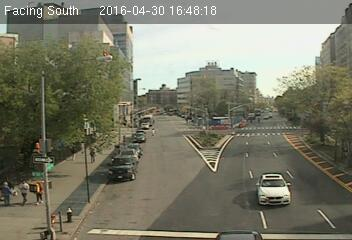neg: (199, 117, 236, 167), (213, 54, 246, 97), (301, 161, 328, 197), (147, 175, 174, 210), (245, 129, 271, 164), (73, 67, 99, 101), (217, 195, 240, 226), (40, 82, 63, 112), (120, 146, 142, 176), (278, 93, 299, 122), (161, 31, 181, 58), (136, 105, 152, 126), (138, 57, 154, 78), (58, 205, 72, 223)
pos: (1, 179, 20, 205), (32, 181, 49, 204), (14, 178, 31, 201), (86, 144, 101, 164)
